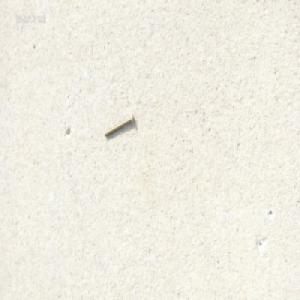Bolt: (103, 113, 134, 138)
